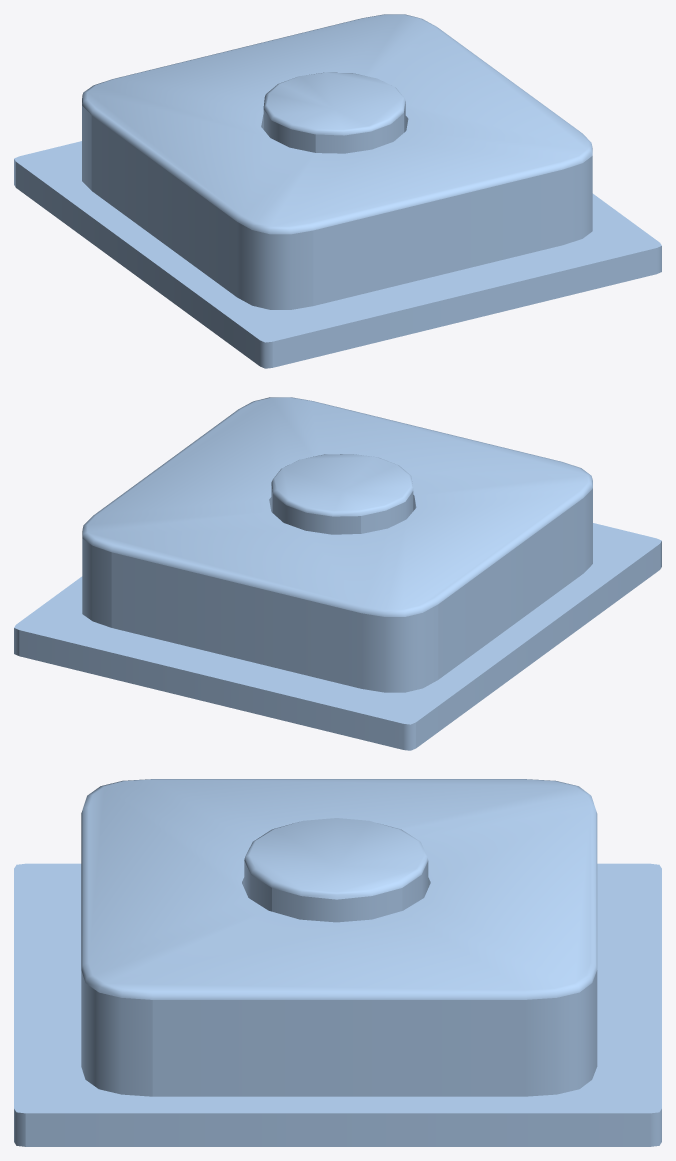
Rendered from button3.fbx.
3 renders of one model, top to bottom at view 1: azimuth 30°, elevation 25°; view 2: azimuth 150°, elevation 25°; view 3: azimuth 270°, elevation 25°, orthographic. The views are drawn at different scales.
Visible parts, largest first — view 1: mex_button_01; view 2: mex_button_01; view 3: mex_button_01.
Part boxes in pixels (left/top/right/bottom): mex_button_01: left=14, top=14, right=661, bottom=368; mex_button_01: left=14, top=397, right=661, bottom=750; mex_button_01: left=14, top=779, right=661, bottom=1146.
Bounding box in the file's own units: 35.42 × 10.88 × 38.85.
